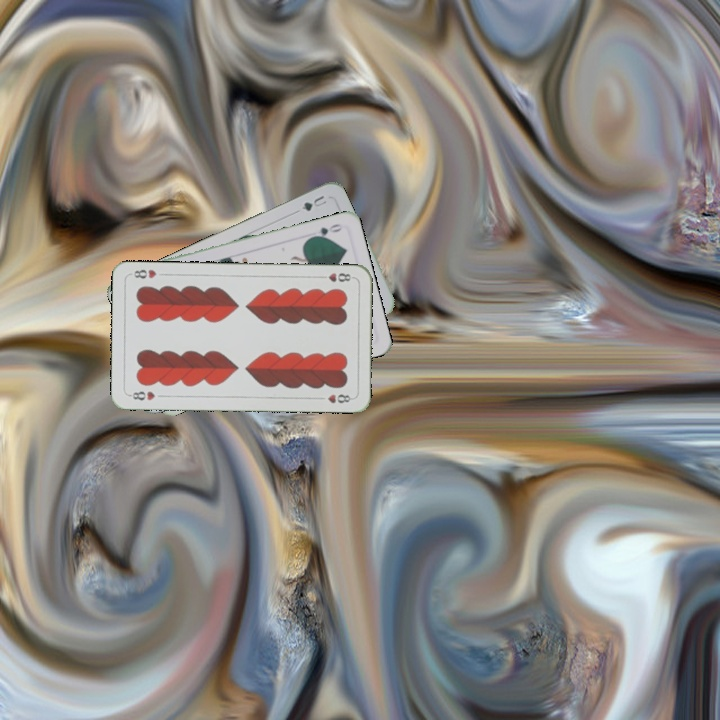GO: (306, 220, 345, 241)
GU: (298, 191, 329, 214)
H8: (316, 269, 356, 284), (126, 387, 158, 403)
